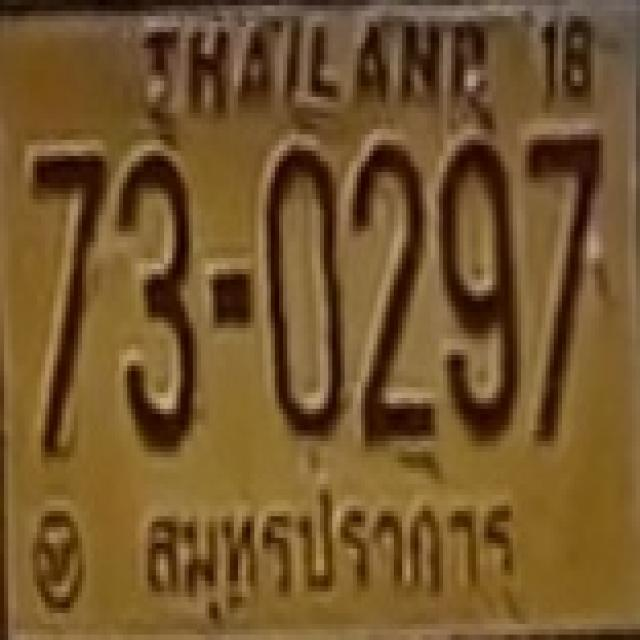0: (262, 142, 340, 433)
2: (351, 140, 437, 438)
3: (117, 150, 195, 447)
7: (523, 129, 599, 437), (32, 151, 104, 466)
9: (439, 137, 517, 438)
SPK: (132, 482, 524, 626)
